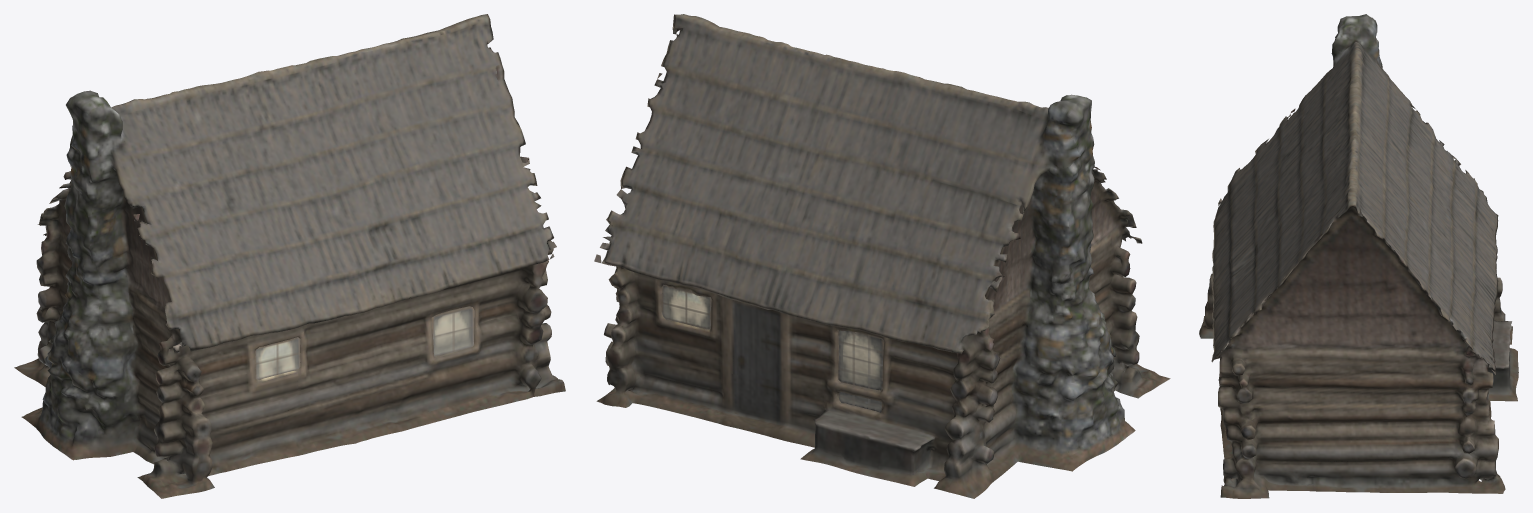
3 renders of one model, left to right at view 1: azimuth 30°, elevation 25°; view 2: azimuth 150°, elevation 25°; view 3: azimuth 270°, elevation 25°, orthographic. The views are drawn at different scales.
Parts seen in each view (by area): view 1: cabin_low, Plane; view 2: cabin_low, Plane; view 3: cabin_low.
Boxes of the visible parts, left/top/right/bottom form: cabin_low: left=14, top=14, right=565, bottom=498; Plane: left=255, top=306, right=474, bottom=379; cabin_low: left=594, top=14, right=1170, bottom=498; Plane: left=661, top=284, right=883, bottom=412; cabin_low: left=1199, top=14, right=1518, bottom=498.
Size of the model in its own units: 245 by 178 by 169.
2 materials, 2 textured.
